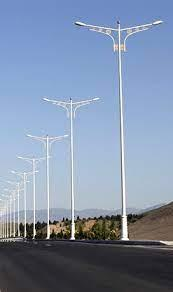Animal: (78, 12, 173, 243), (46, 87, 101, 244), (27, 128, 70, 234), (17, 152, 48, 235)
